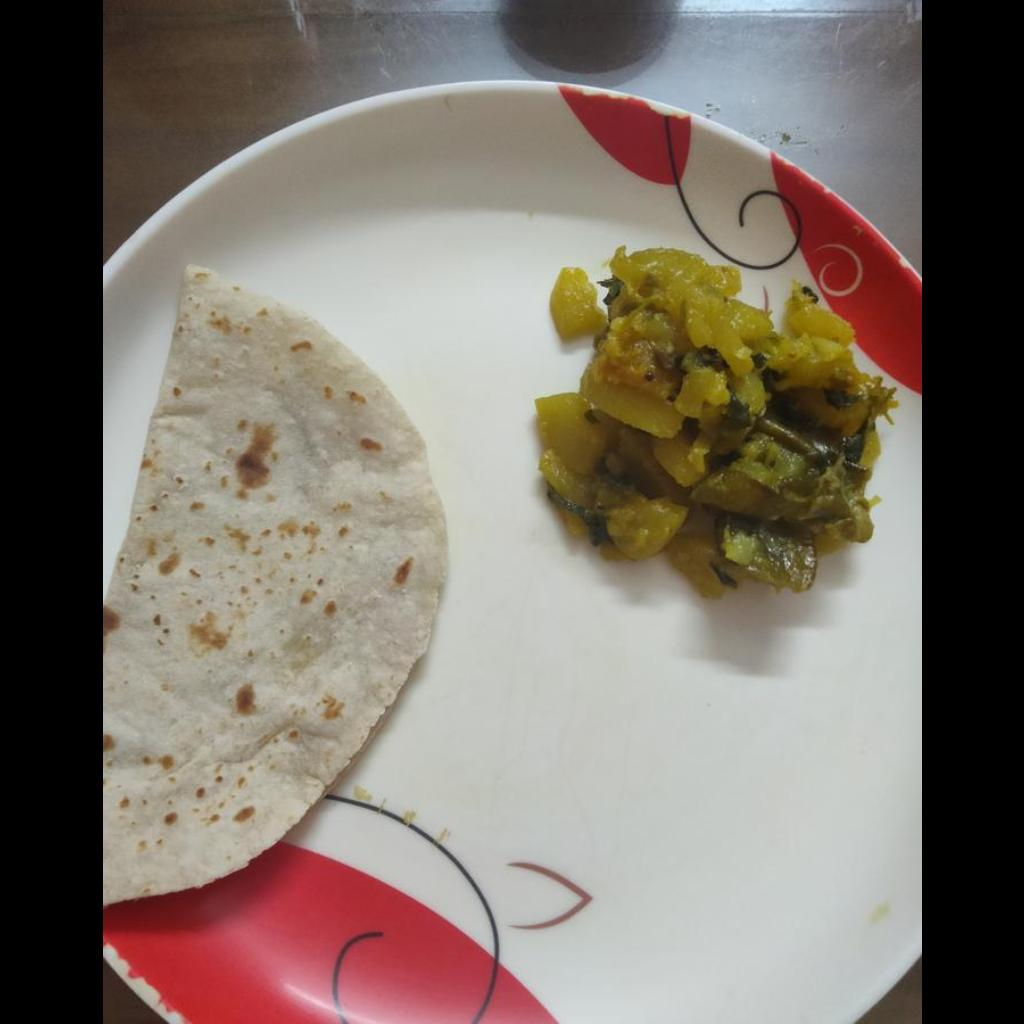ruti: (102, 265, 448, 908)
vaji: (531, 243, 872, 593)
